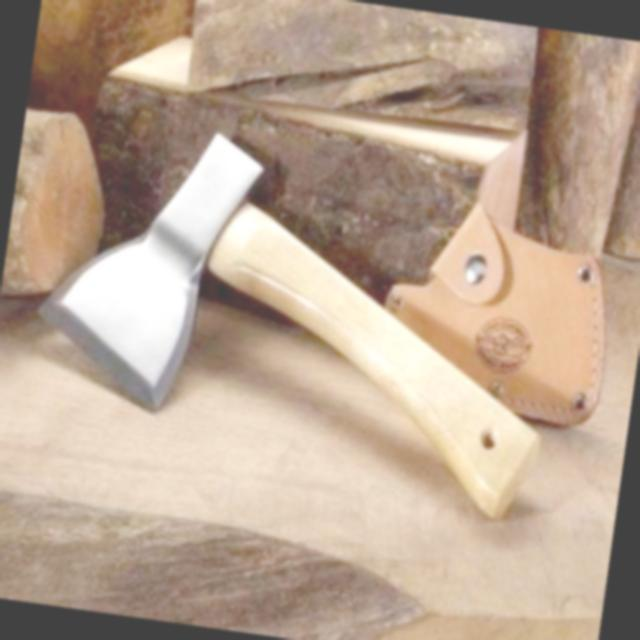ax: (8, 94, 584, 534)
